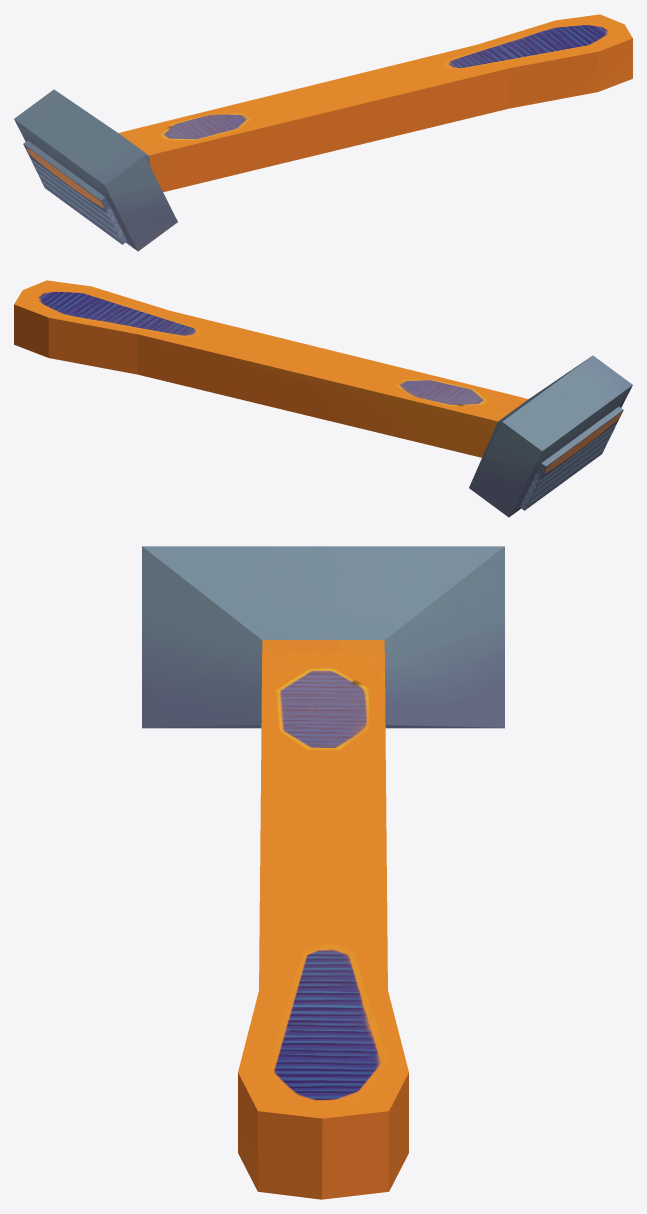
The model's file is cuchillaWebos.fbx.
3 views of the same model, one above another, from view 1: azimuth 30°, elevation 25°; view 2: azimuth 150°, elevation 25°; view 3: azimuth 270°, elevation 25° (orthographic). The views are drawn at different scales.
Visible parts, largest first — view 1: Cube; view 2: Cube; view 3: Cube.
Boxes of the visible parts, x1=… form: Cube: x1=14, y1=14, x2=632, y2=251; Cube: x1=14, y1=280, x2=632, y2=517; Cube: x1=142, y1=546, x2=504, y2=1199.
Size of the model in its own units: 14.38 by 2.29 by 4.
Materials: 1 (1 with a texture image).
